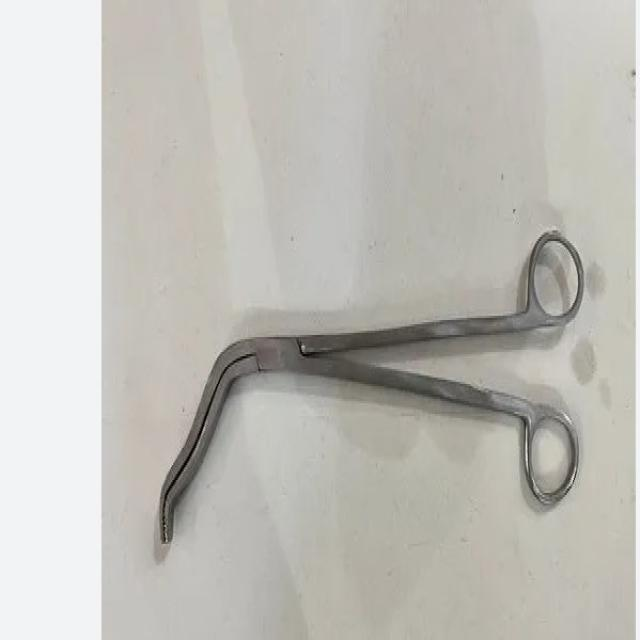Cheatle Forceps: (154, 228, 586, 551)
